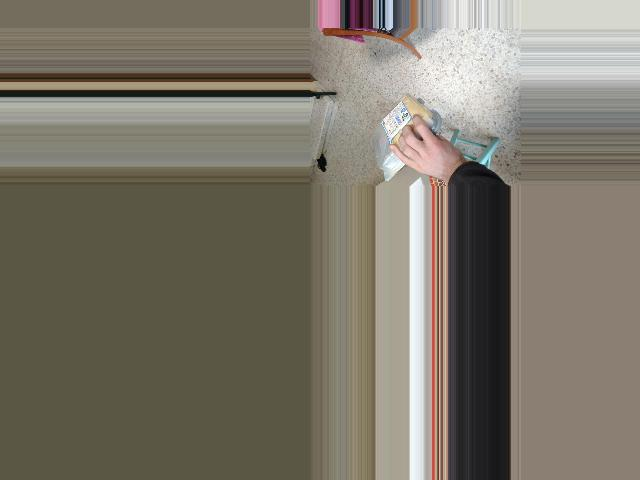cheese: (379, 96, 426, 183)
